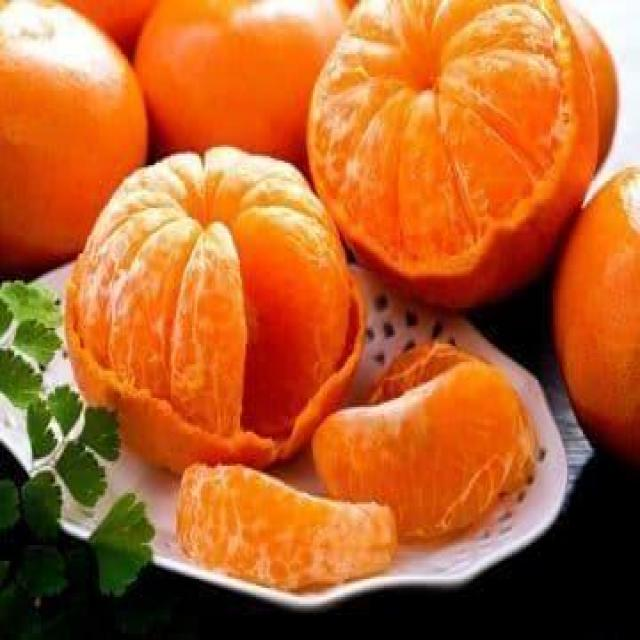10_tangerine: (62, 143, 374, 481), (294, 0, 602, 320), (308, 353, 533, 570), (0, 0, 156, 273), (161, 453, 399, 602), (543, 153, 640, 470)
